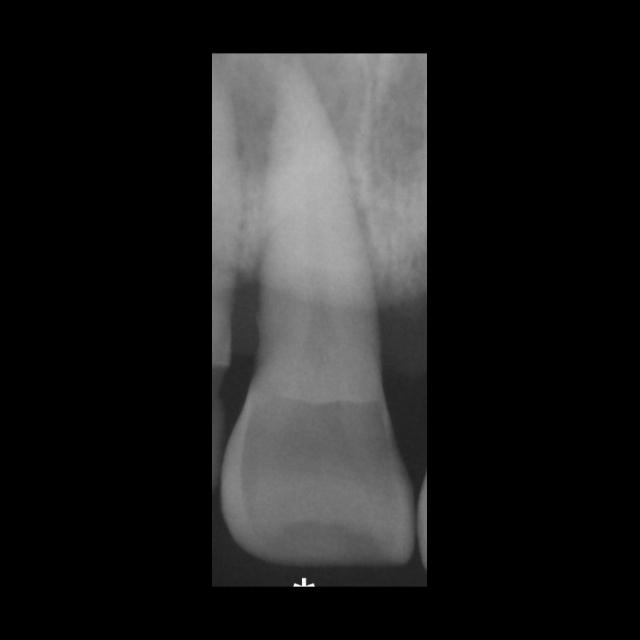tooth: (212, 53, 416, 566)
